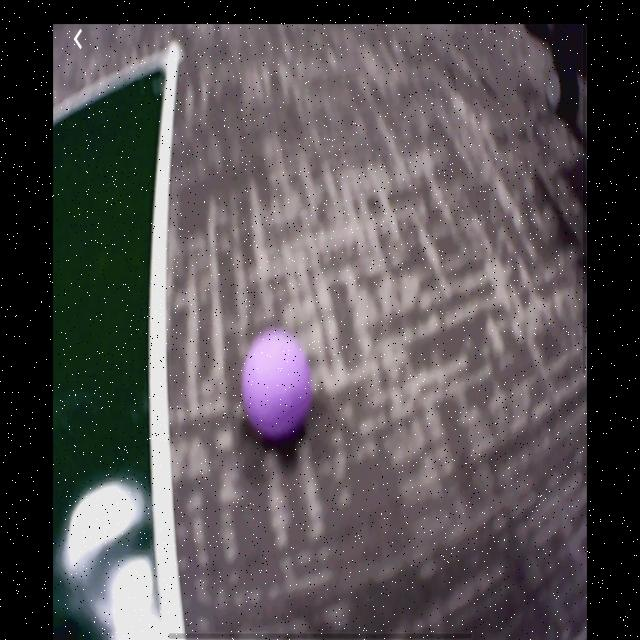ball: (241, 327, 314, 442)
